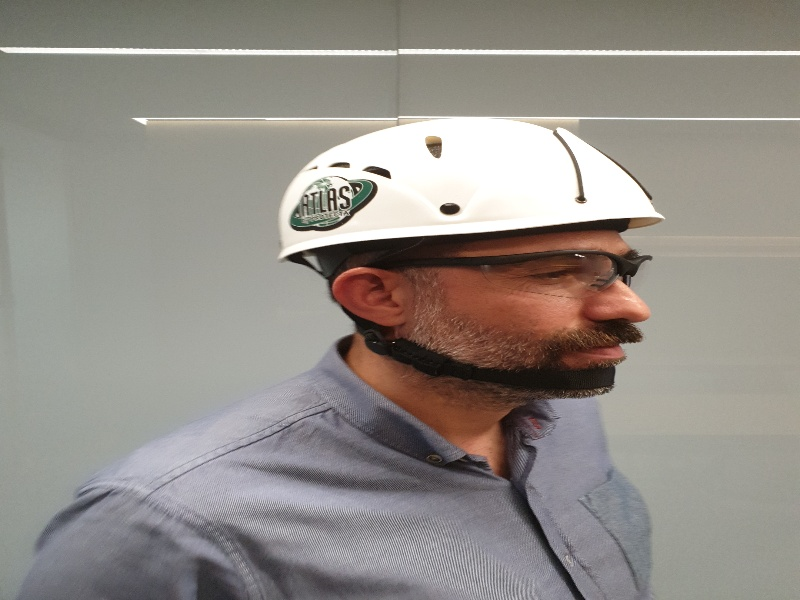Baret: (279, 120, 656, 232)
Gozluk: (395, 246, 660, 302)
